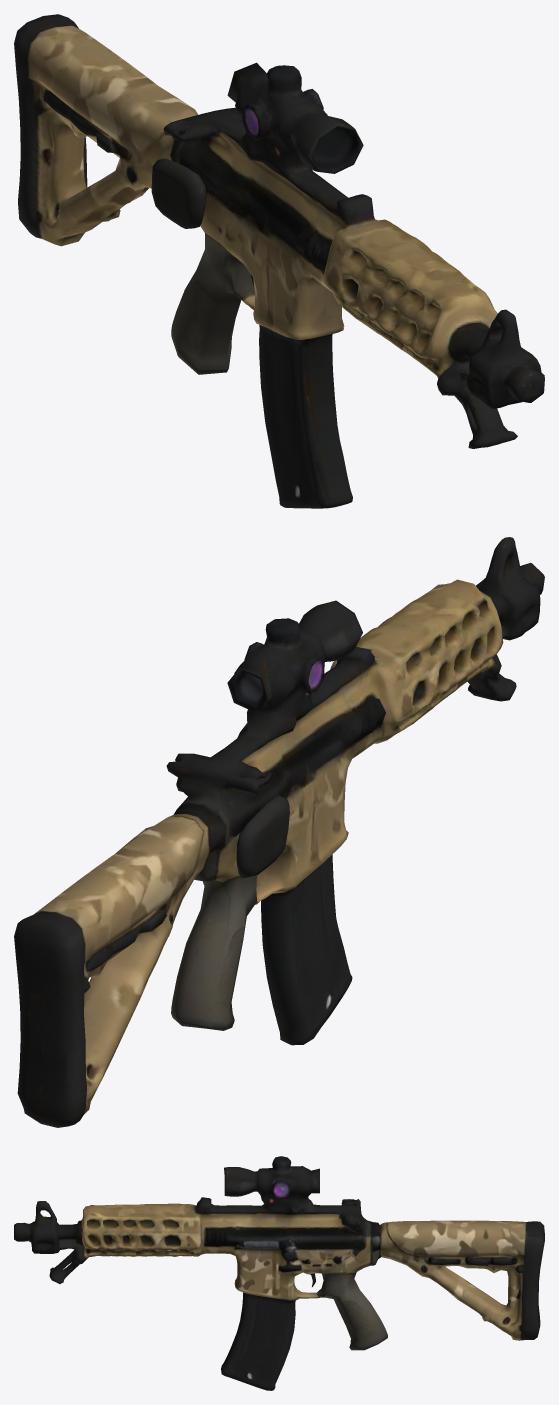
3 views of the same model, one above another, from view 1: azimuth 30°, elevation 25°; view 2: azimuth 150°, elevation 25°; view 3: azimuth 270°, elevation 25° (orthographic). The views are drawn at different scales.
Parts seen in each view (by area): view 1: model; view 2: model; view 3: model.
Boxes of the visible parts, bbox=[...] form: model: bbox=[14, 14, 544, 508]; model: bbox=[14, 537, 544, 1127]; model: bbox=[14, 1156, 544, 1390].
Size of the model in its own units: 0.21 by 0.907 by 1.9.
Materials: 1 (1 with a texture image).
